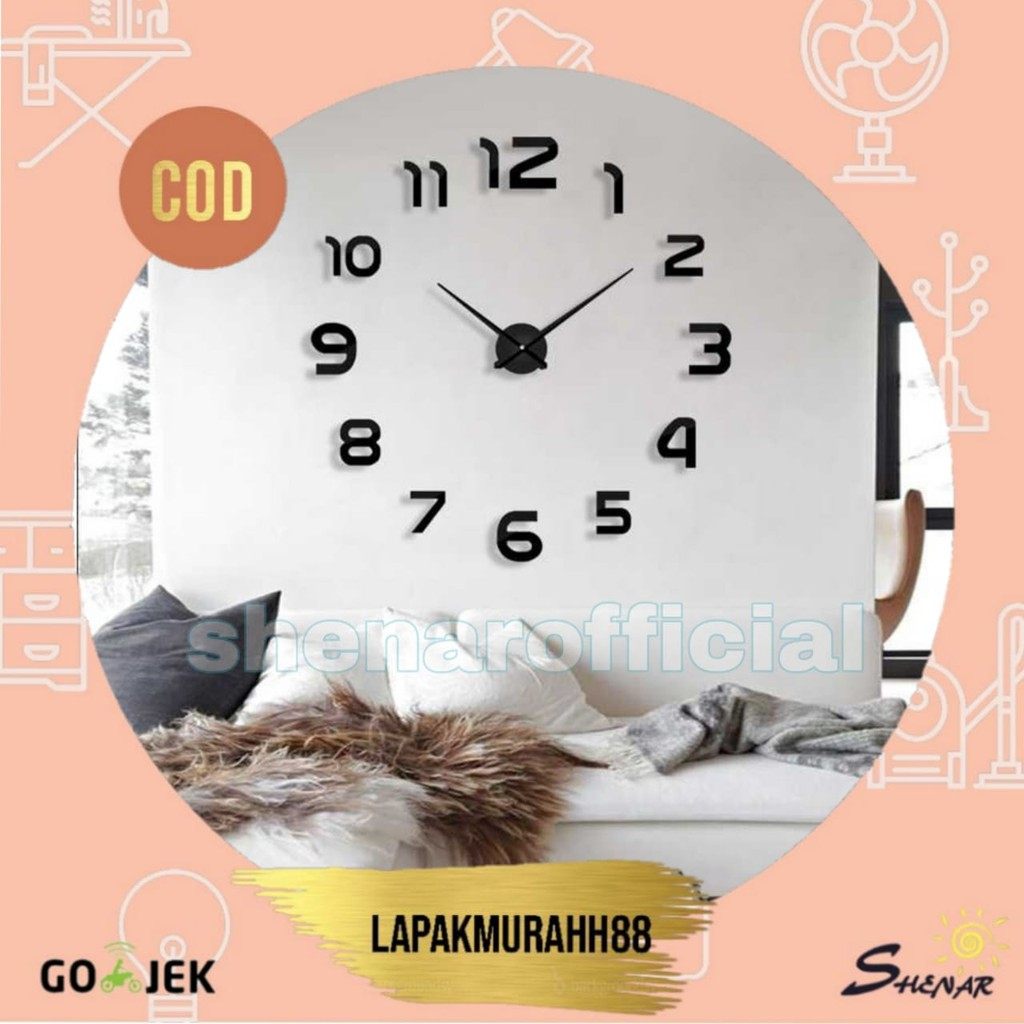jam dinding: (260, 126, 789, 565)
